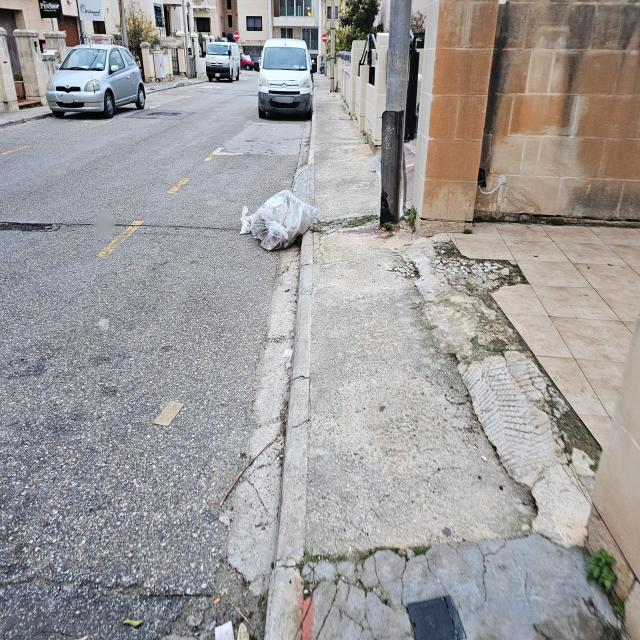white_bag: (236, 189, 320, 254)
